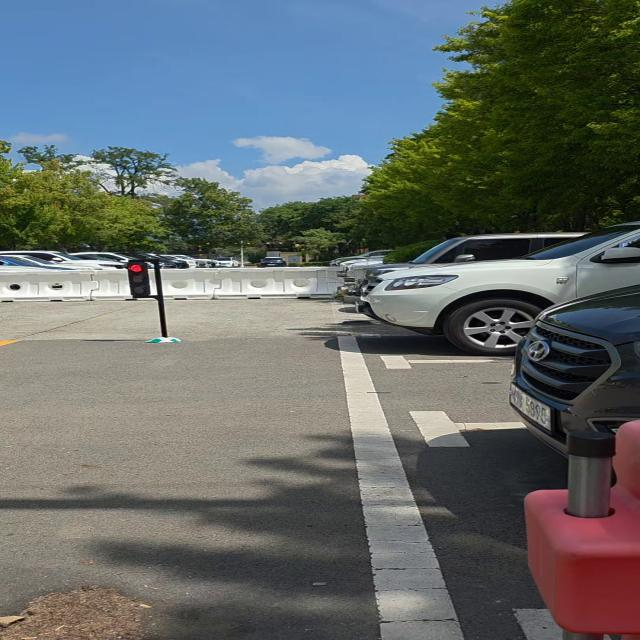red: (122, 260, 154, 299)
